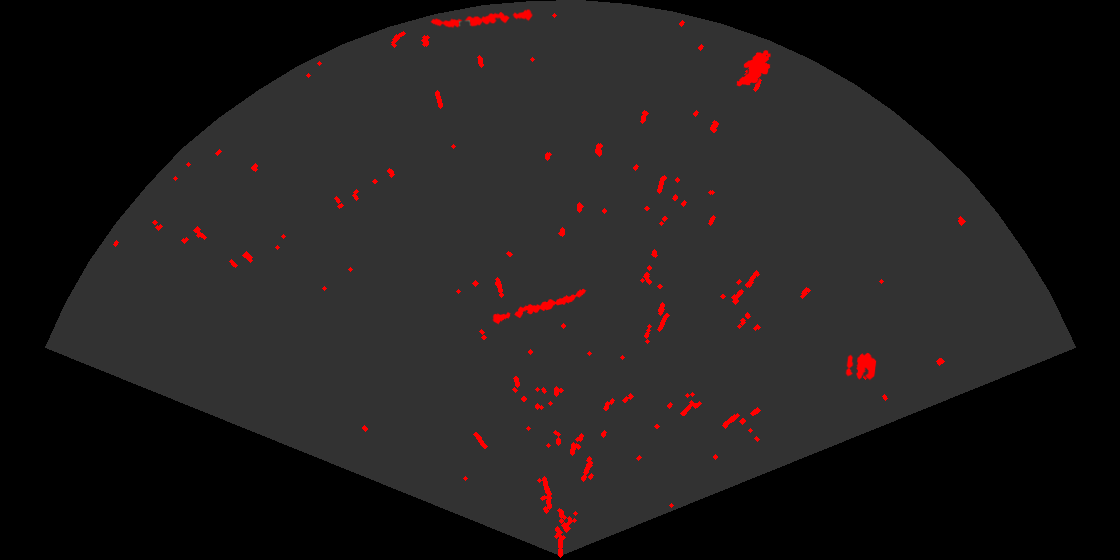AUV: (735, 48, 772, 88)
ball: (844, 351, 878, 382)
chain: (490, 287, 588, 326), (429, 8, 535, 30)
